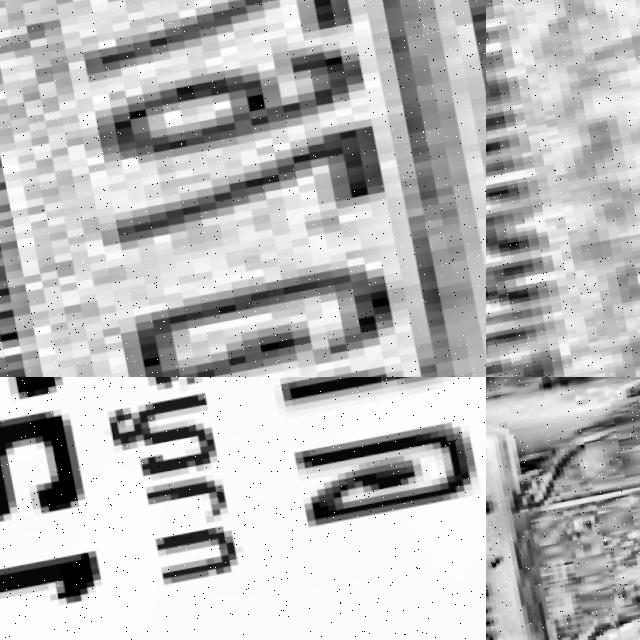license-plate: (0, 0, 486, 377), (0, 377, 486, 640), (486, 0, 640, 377), (486, 388, 583, 640)
